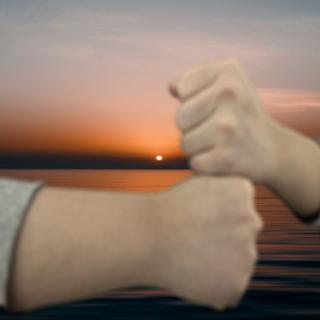CAREFUL: (54, 56, 318, 310)
